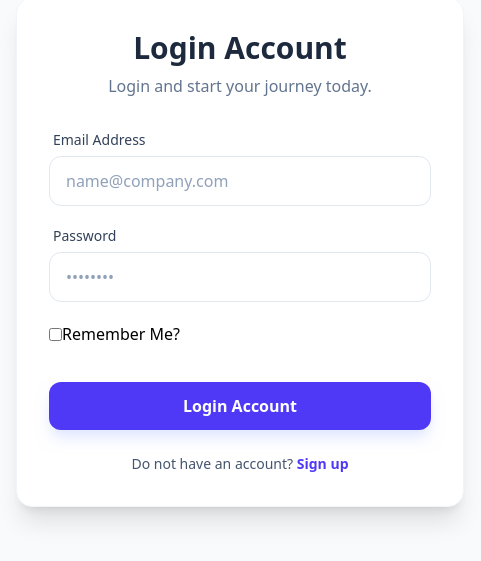
Test case: Login Integration Test › Login Fail › Validation Error › When Password is empty,show the Error message under Password field
Type "email@email.com" into the field with placeholder "name@company.com" at (240, 181), box [49, 156, 431, 206]
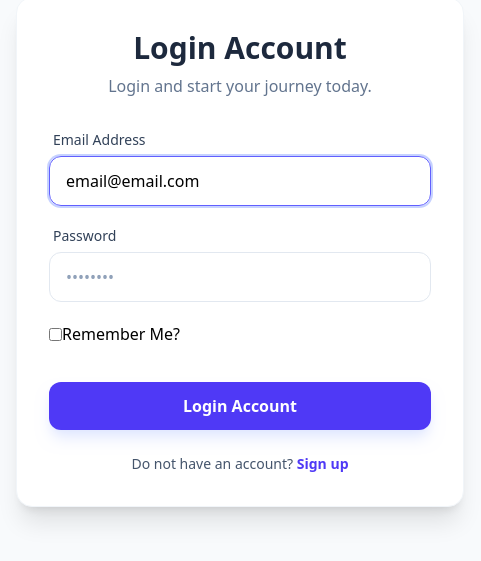
Click the button "Login Account" at (240, 406), box [49, 382, 431, 430]
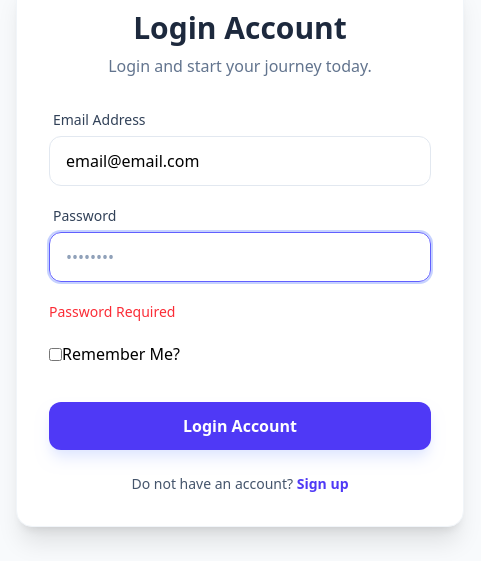
expect the text "Password Required" is shown: met, box [49, 302, 176, 321]
